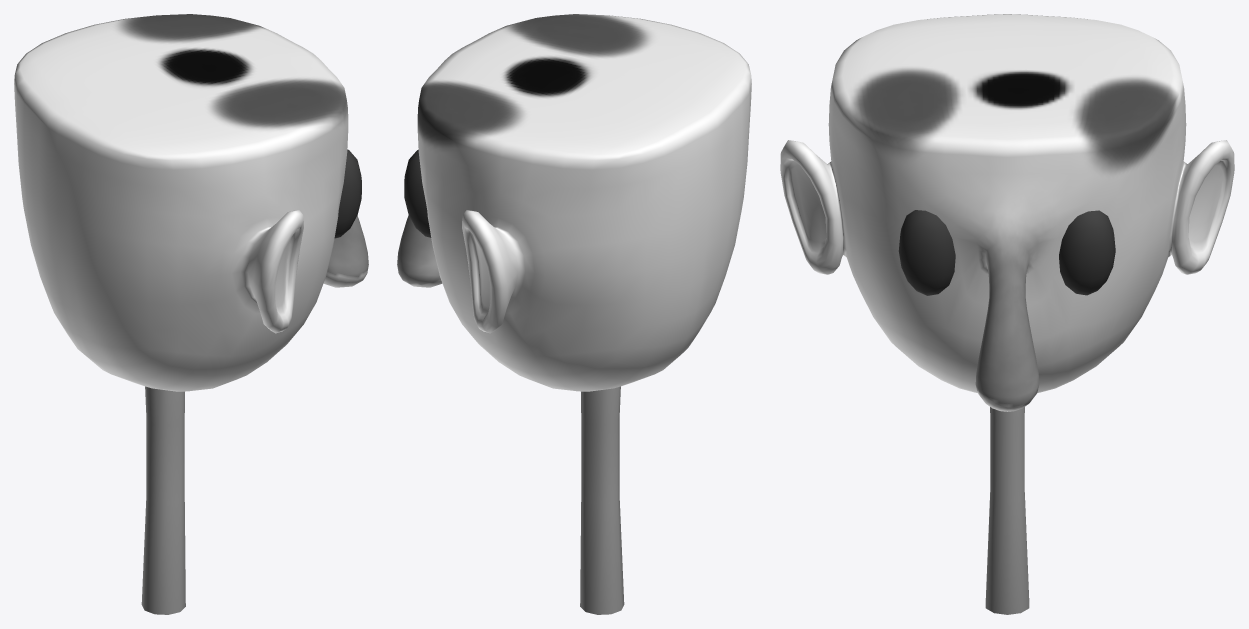
File: Head.fbx
3 renders of one model, left to right at view 1: azimuth 30°, elevation 25°; view 2: azimuth 150°, elevation 25°; view 3: azimuth 270°, elevation 25°, orthographic. The views are drawn at different scales.
Visible parts, largest first — view 1: pCube1, pCylinder1, pCube3; view 2: pCube1, pCylinder1, pCube2; view 3: pCube1, pCylinder1, pCube3, pCube2.
Part boxes in pixels (box(x1,y1,x2,y2)): pCube1: box(14, 14, 368, 391); pCylinder1: box(141, 386, 185, 614); pCube3: box(334, 149, 361, 238); pCube1: box(397, 14, 751, 391); pCylinder1: box(580, 386, 624, 614); pCube2: box(404, 149, 431, 237); pCube1: box(780, 14, 1234, 411); pCylinder1: box(985, 407, 1029, 614); pCube3: box(898, 210, 955, 295); pCube2: box(1059, 210, 1115, 295).
Size of the model in its own units: 13.89 by 21.81 by 16.62.
